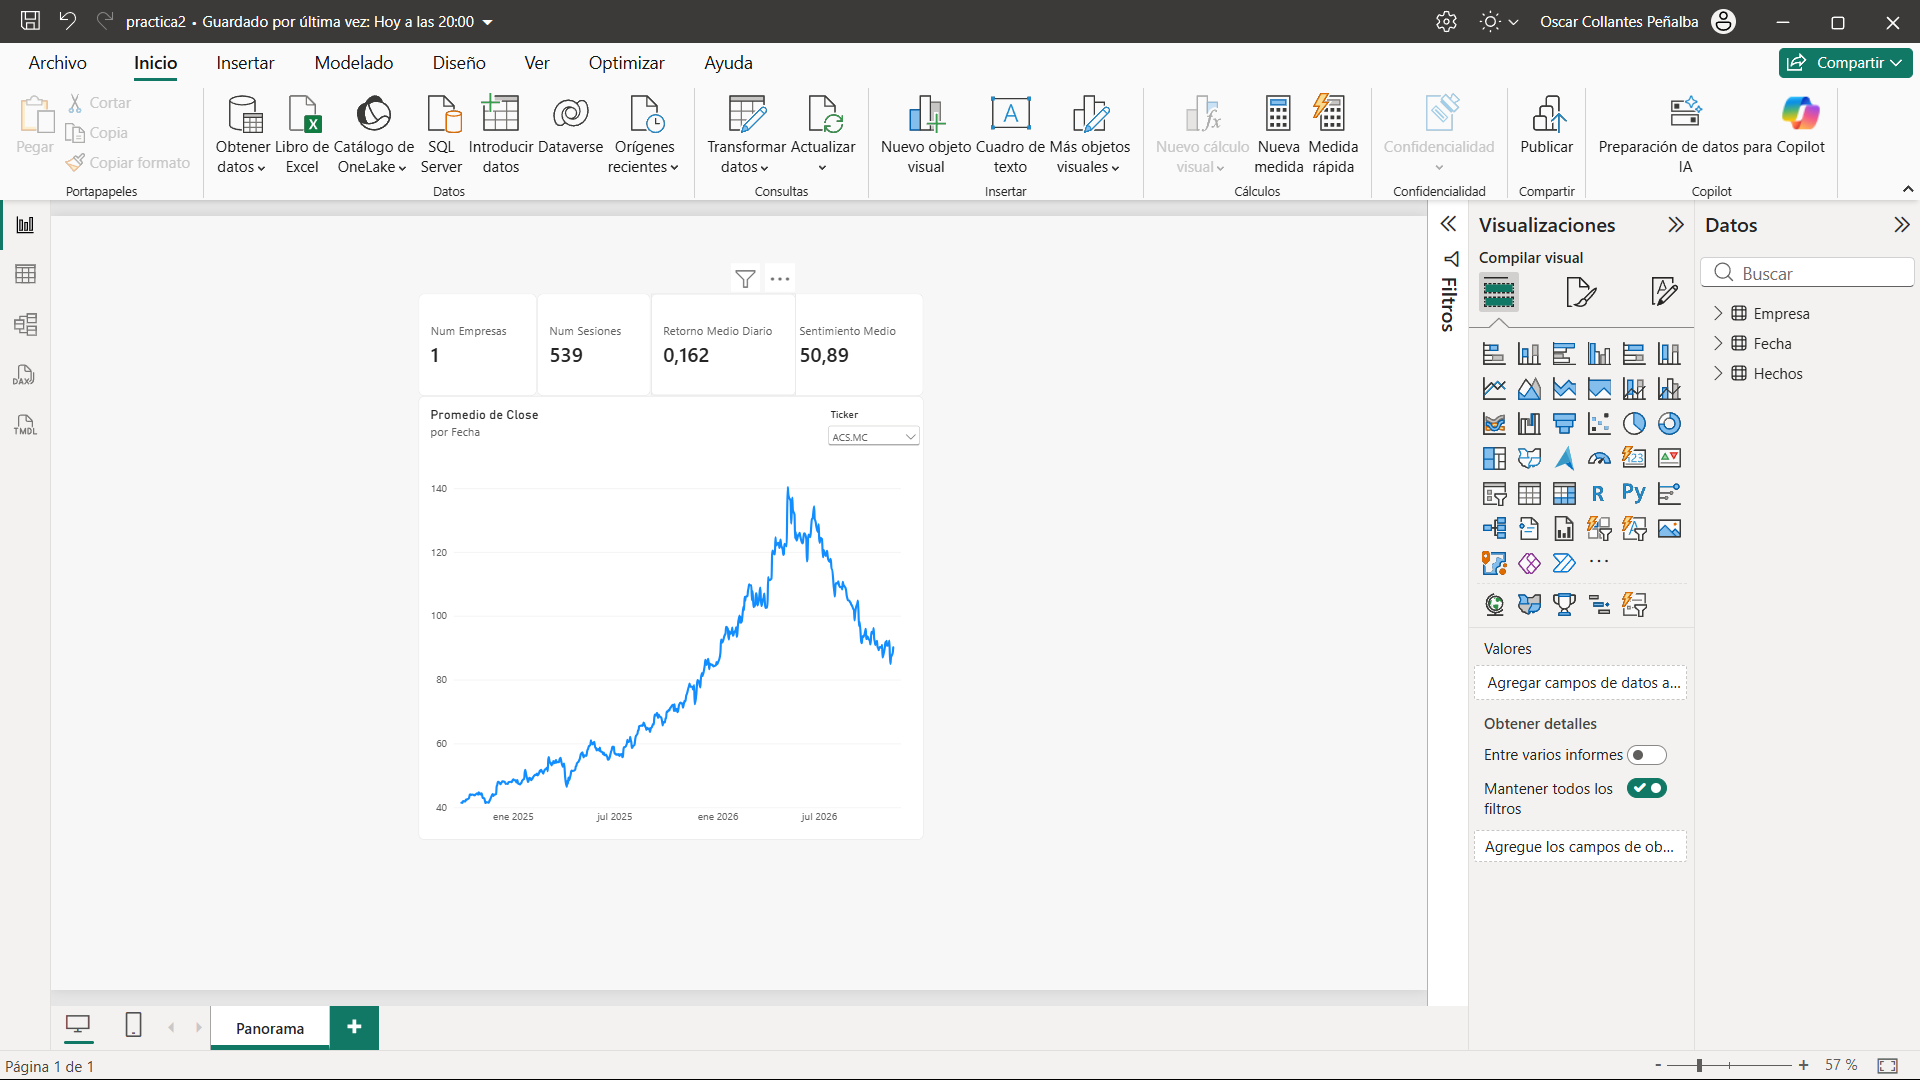

What the dashboard file says about the page in this screenshot:
{"tool":"powerbi","page":{"name":"Panorama","canvas":[1920,1080],"ordinal":0},"visuals":[{"type":"cardVisual","fields":{"Data":["Hechos.Num Empresas"]},"box":[-0.7,-0.7,165.7,143],"z":0},{"type":"cardVisual","fields":{"Data":["Hechos.Sentimiento Medio"]},"box":[513.8,-0.7,190.1,143],"z":1000},{"type":"cardVisual","fields":{"Data":["Hechos.Retorno Medio Diario"]},"box":[323.7,-0.7,202.3,143],"z":2000},{"type":"cardVisual","fields":{"Data":["Hechos.Num Sesiones"]},"box":[165,-0.7,158.7,143],"z":3000},{"type":"lineChart","fields":{"Category":["Fecha.Fecha"],"Y":["Avg(Hechos.Close)"]},"box":[-0.7,142.3,704.7,619.2],"z":4000},{"type":"slicer","fields":{"Values":["Empresa.Ticker"]},"box":[566.2,159.8,137.8,59.3],"z":5000}]}

Visuals, with their boxes on the page's 1920x1080 design canvas (x1, y1, x2, y2). These are canvas units, not pixel positions in the 1920x1080 screenshot, which may show the page scaled, cropped or inside an application window:
cardVisual - Hechos.Num Empresas: x1=-1, y1=-1, x2=165, y2=142
cardVisual - Hechos.Sentimiento Medio: x1=514, y1=-1, x2=704, y2=142
cardVisual - Hechos.Retorno Medio Diario: x1=324, y1=-1, x2=526, y2=142
cardVisual - Hechos.Num Sesiones: x1=165, y1=-1, x2=324, y2=142
lineChart - Fecha.Fecha x Avg(Hechos.Close): x1=-1, y1=142, x2=704, y2=762
slicer - Empresa.Ticker: x1=566, y1=160, x2=704, y2=219
